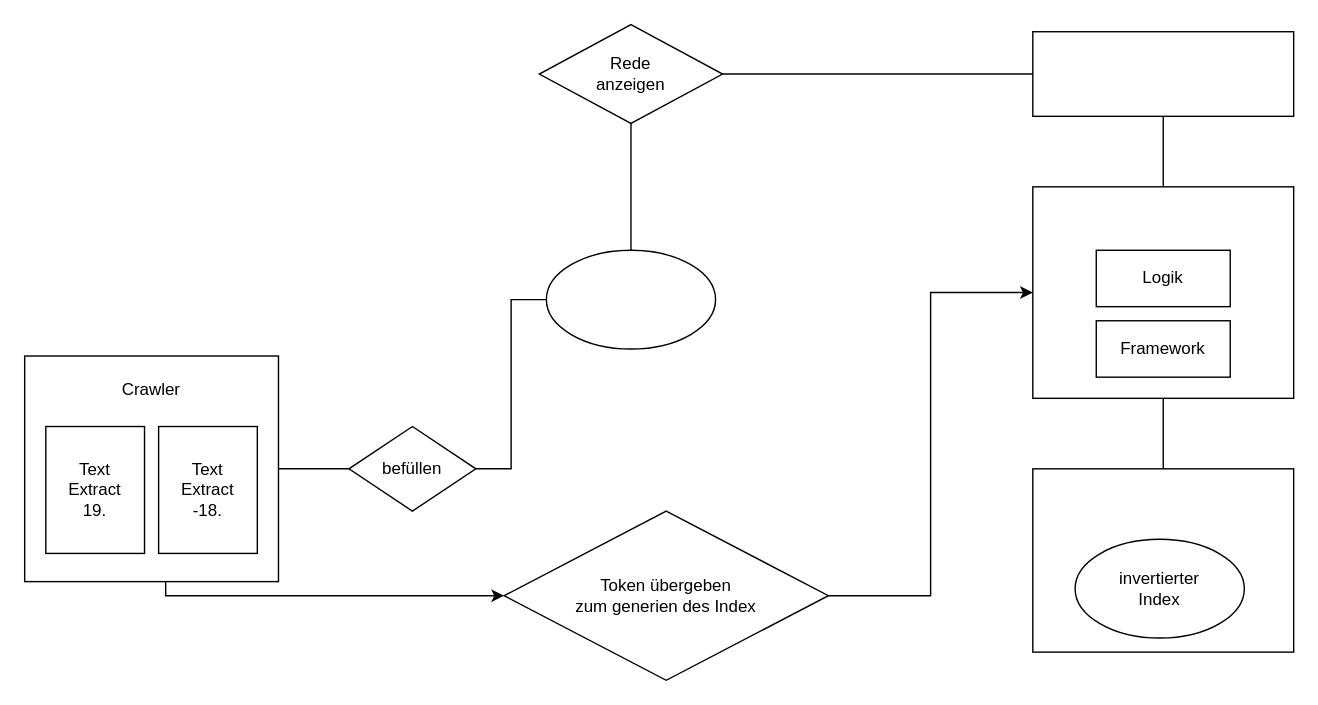
The diagram is 1318 pixels wide and 705 high, and some of its shapes have lost their labels. The box of each missing label's shape, as (x1, y1, x2, y2) in pixels:
P2P: (1031, 185, 1294, 398)
UI: (1031, 30, 1294, 116)
Volltextsuche: (1031, 467, 1294, 652)
zentrale MongoDB: (545, 249, 716, 349)
